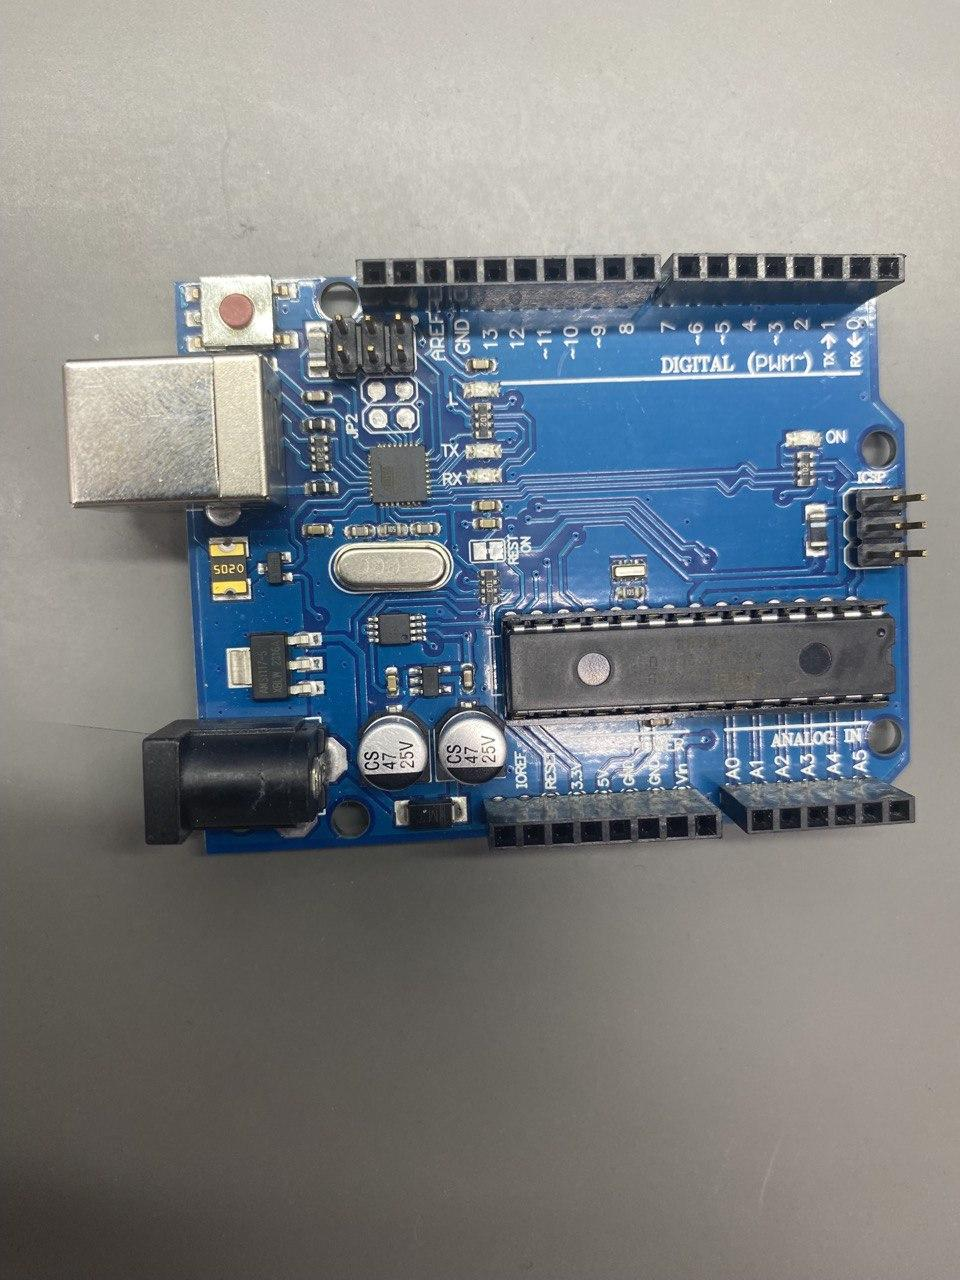ATmega328 chip: (502, 598, 896, 727)
Arduino board: (62, 252, 927, 854)
USB: (62, 353, 287, 515)
capacitor: (355, 709, 430, 791), (435, 705, 509, 786)
pins: (355, 254, 661, 313), (482, 788, 723, 850), (651, 252, 905, 306), (720, 778, 915, 836)
resistor: (309, 435, 331, 472), (474, 403, 492, 440), (479, 570, 497, 604), (797, 451, 814, 487)
